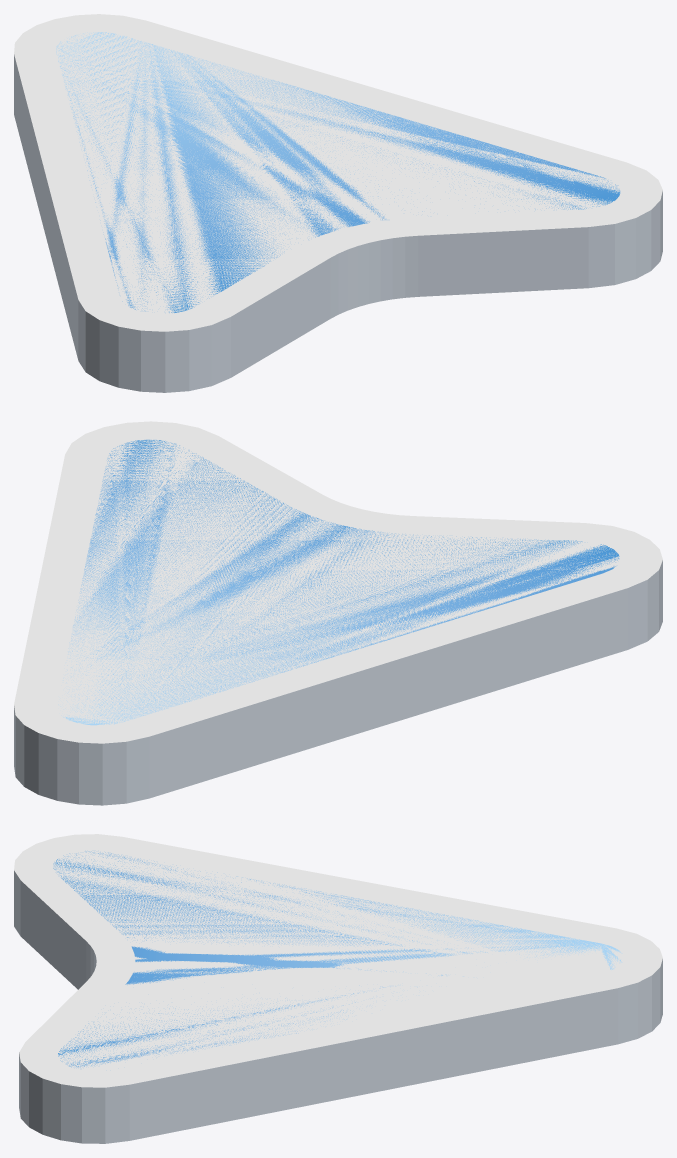
Rendered from navigation_puck.glb.
3 views of the same model, one above another, from view 1: azimuth 30°, elevation 25°; view 2: azimuth 150°, elevation 25°; view 3: azimuth 270°, elevation 25° (orthographic). The views are drawn at different scales.
Parts seen in each view (by area): view 1: NavigationPuck; view 2: NavigationPuck; view 3: NavigationPuck.
Boxes of the visible parts, x1,y1,x2,y2 form: NavigationPuck: (14, 14, 662, 392); NavigationPuck: (14, 421, 662, 805); NavigationPuck: (14, 834, 662, 1143).
Size of the model in its own units: 0.7253 by 0.075 by 0.7844.
Materials: 4 (1 with a texture image).
